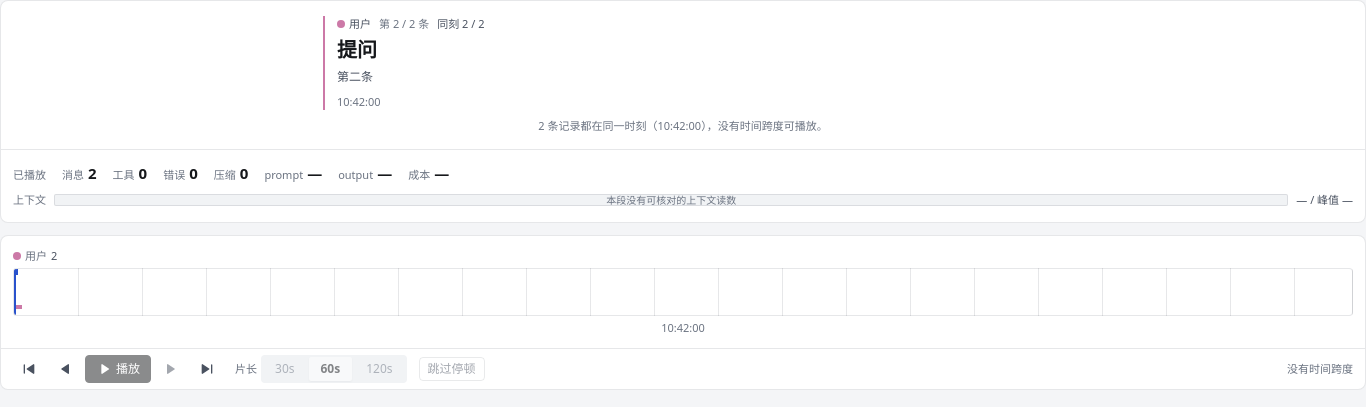
Test: ReplayView — honest states › keeps every record visible for a zero-span session and steps without playing
This screenshot has width=1366, height=407.
Expected: the text "2 条记录都在同一时刻（10:42:00），没有时间跨度可播放。" is shown, [538,118,828,134]
Expected: the button "播放" is disabled, [85,355,151,383]
Click the button named "上一事件" at (65, 369), box [49,353,81,385]
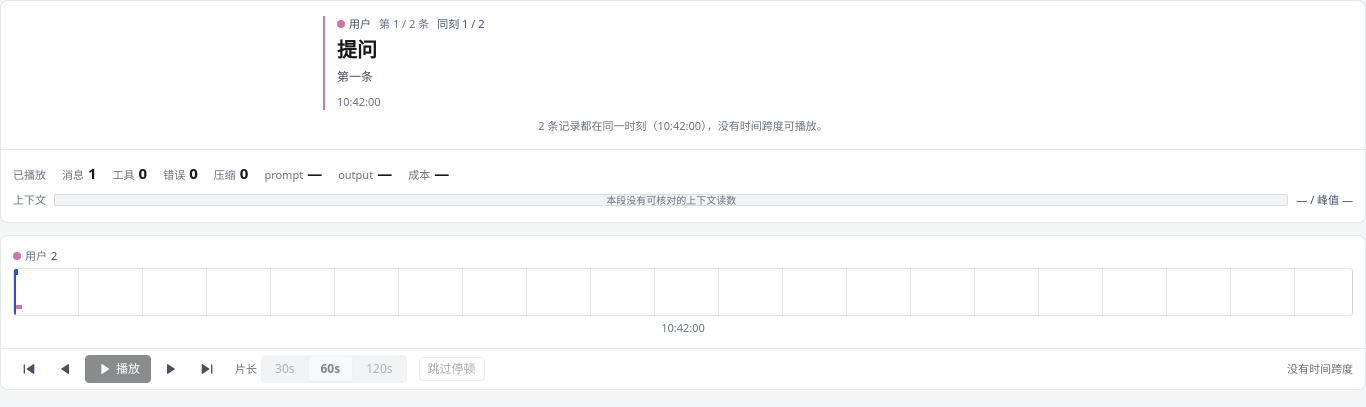
Result: the text "第 1 / 2 条" is shown at [379,16,429,32]
Result: the text "同刻 1 / 2" is shown at [437,16,484,32]
Result: the element showing "消息 1" is shown at [62,162,97,184]
